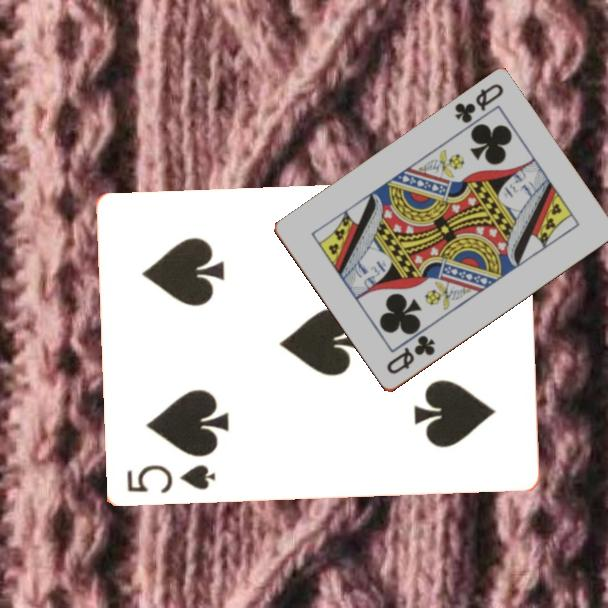c12: (451, 80, 507, 127), (383, 332, 438, 378)
s05: (123, 461, 218, 497)
